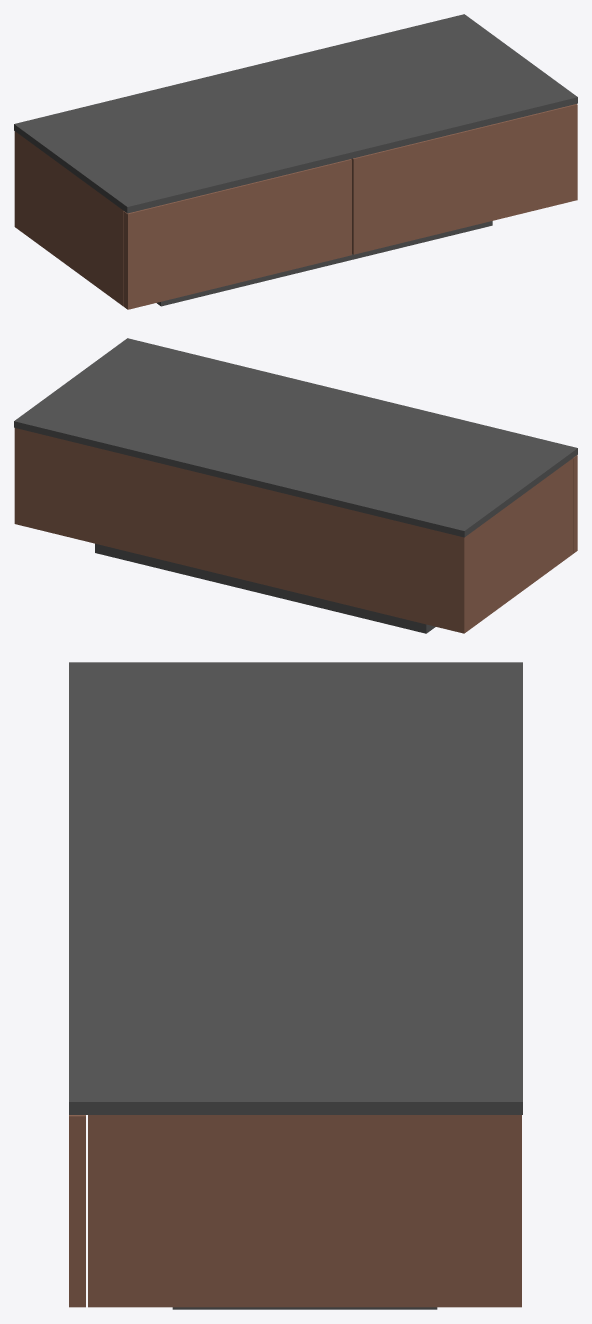
Rendered from 397_センターテーブル.glb.
The picture shows the model from 3 angles, top to bottom: view 1: azimuth 30°, elevation 25°; view 2: azimuth 150°, elevation 25°; view 3: azimuth 270°, elevation 25°; orthographic projection. The views are drawn at different scales.
Parts seen in each view (by area): view 1: 397_センターテーブル, 引き出し左, 引き出し右; view 2: 397_センターテーブル, 引き出し左; view 3: 397_センターテーブル, 引き出し右.
Boxes of the visible parts, <box> form: 397_センターテーブル: <box>14,14,577,306</box>; 引き出し左: <box>123,159,351,309</box>; 引き出し右: <box>351,104,577,254</box>; 397_センターテーブル: <box>14,338,577,633</box>; 引き出し左: <box>573,455,577,553</box>; 397_センターテーブル: <box>69,662,522,1309</box>; 引き出し右: <box>69,1115,85,1307</box>.
Bounding box in the file's own units: 1.1 × 0.31 × 0.48.
